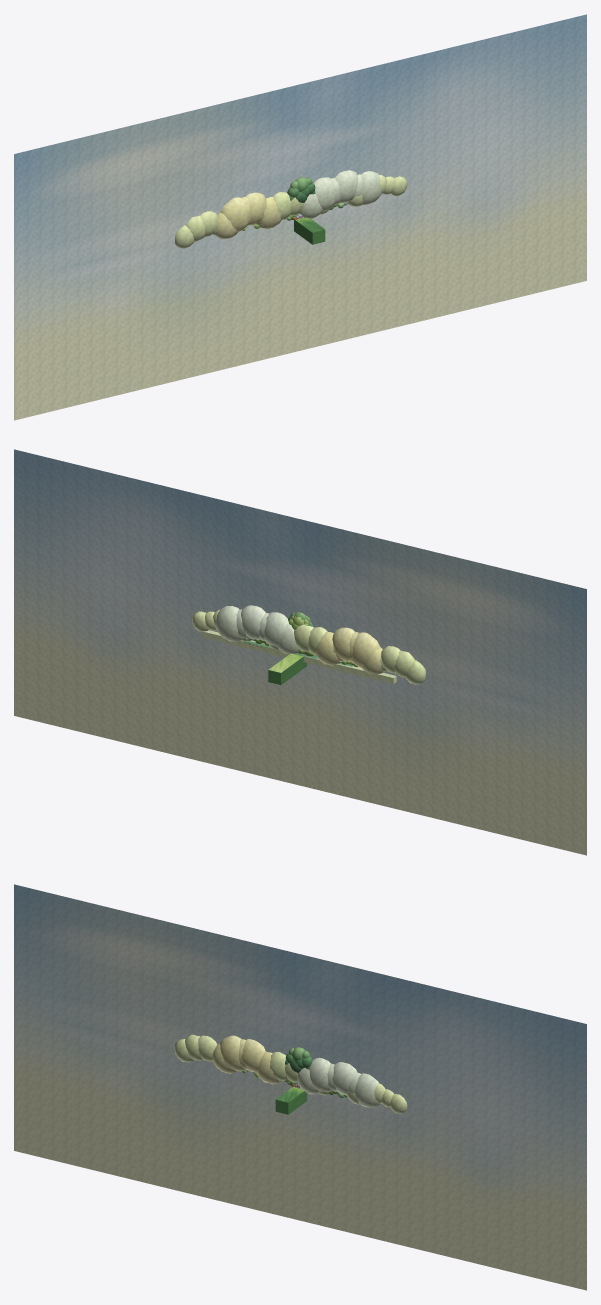
Rendered from kit.glb.
3 views of the same model, one above another, from view 1: azimuth 30°, elevation 25°; view 2: azimuth 150°, elevation 25°; view 3: azimuth 330°, elevation 25° (orthographic).
Parts seen in each view (by area): view 1: sky, bush_far, ground, tree_dark; view 2: sky, bush_far, ground; view 3: sky, bush_far, ground.
Part boxes in pixels (left/top/right/bottom): sky: left=14, top=14, right=586, bottom=420; bush_far: left=175, top=170, right=407, bottom=248; ground: left=294, top=217, right=325, bottom=244; tree_dark: left=287, top=177, right=315, bottom=202; sky: left=14, top=449, right=586, bottom=855; bush_far: left=192, top=605, right=425, bottom=684; ground: left=268, top=653, right=306, bottom=684; sky: left=14, top=884, right=586, bottom=1290; bush_far: left=174, top=1034, right=407, bottom=1113; ground: left=275, top=1087, right=306, bottom=1114.
Bounding box in the file's own units: 90 × 40 × 12.
Materials: 37 (13 with a texture image).
